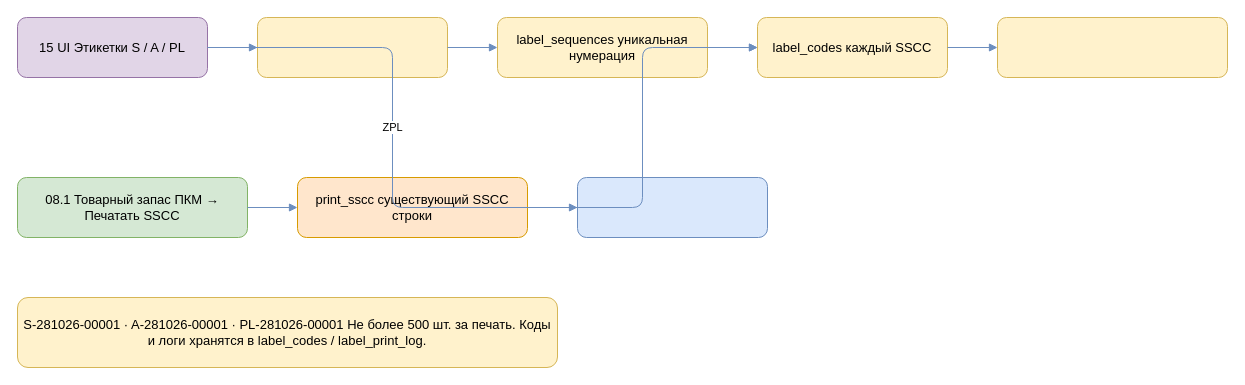
This 1245x385 diagram has some shape labels left out. The centre of each missing label's shape, as x and y in pixels:
label_print_log логин / количество / дата: (x=1112, y=47)
label_templates ZPL + SQL: (x=352, y=47)
ZPL 58×40 скачать .zpl: (x=672, y=207)
